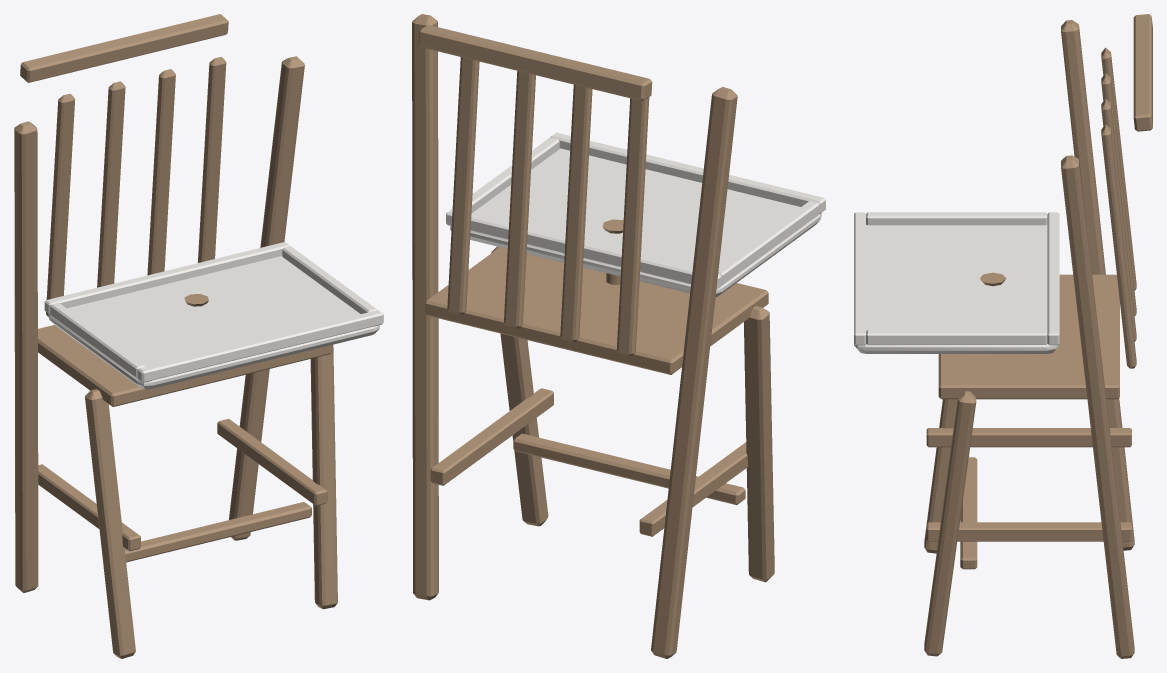
Rendered from restaurant-kitchen-and-dining-high-chair-3bd276e3__16525.glb.
3 renders of one model, left to right at view 1: azimuth 30°, elevation 25°; view 2: azimuth 150°, elevation 25°; view 3: azimuth 270°, elevation 25°, orthographic. The views are drawn at different scales.
Visible parts, largest first — view 1: high-chair; view 2: high-chair; view 3: high-chair.
Boxes of the visible parts, <box> form: high-chair: <box>14,14,383,658</box>; high-chair: <box>412,14,825,658</box>; high-chair: <box>854,14,1152,658</box>.
Size of the model in its own units: 0.567 by 0.9825 by 0.4945.
